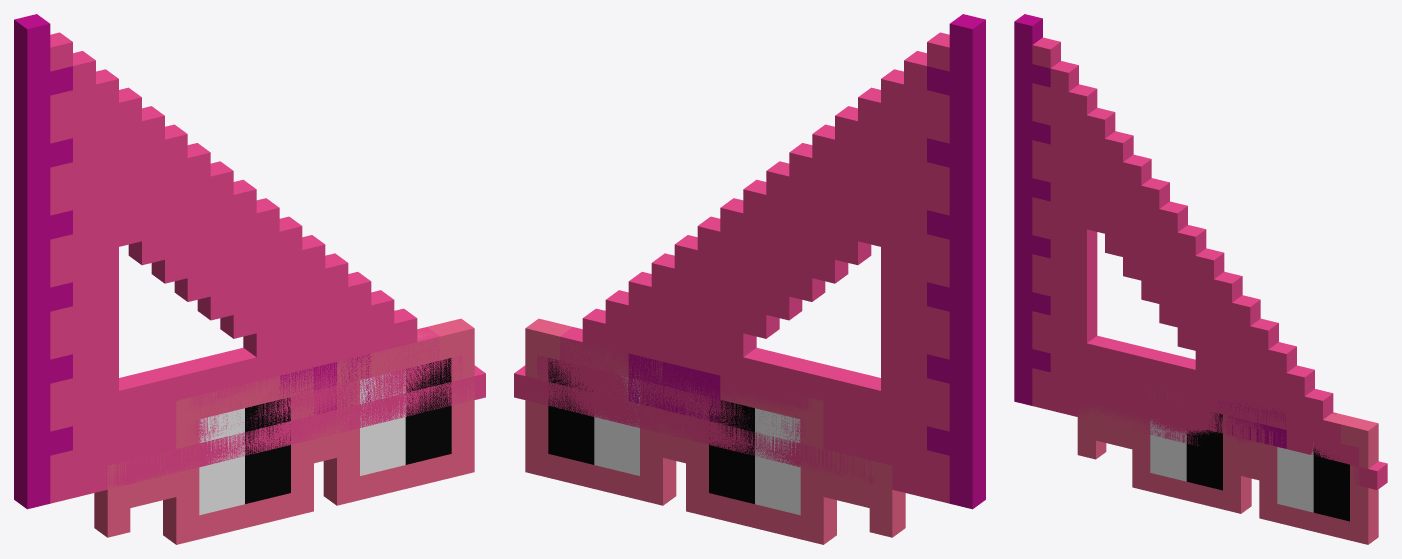
The model's file is triangularruler.glb.
3 views of the same model, side by side, from view 1: azimuth 30°, elevation 25°; view 2: azimuth 150°, elevation 25°; view 3: azimuth 330°, elevation 25° (orthographic). The views are drawn at different scales.
Visible parts, largest first — view 1: ruler, layer-1, layer-2, l2, moouth; view 2: ruler, layer-1, layer-2, l2, moouth; view 3: ruler, layer-1, l2, layer-2, moouth.
Boxes of the visible parts, bbox=[...] form: ruler: bbox=[14, 14, 485, 509]; layer-1: bbox=[94, 318, 474, 544]; layer-2: bbox=[199, 358, 451, 515]; l2: bbox=[50, 337, 462, 479]; moouth: bbox=[279, 354, 371, 415]; ruler: bbox=[514, 14, 985, 509]; layer-1: bbox=[525, 318, 905, 544]; layer-2: bbox=[548, 358, 800, 515]; l2: bbox=[537, 338, 949, 478]; moouth: bbox=[628, 353, 720, 423]; ruler: bbox=[1014, 14, 1387, 489]; layer-1: bbox=[1077, 382, 1378, 544]; l2: bbox=[1032, 354, 1358, 466]; layer-2: bbox=[1150, 413, 1349, 521]; moouth: bbox=[1216, 400, 1286, 448].
Bounding box in the file's own units: 20 × 23 × 1.
6 materials, 6 textured.
